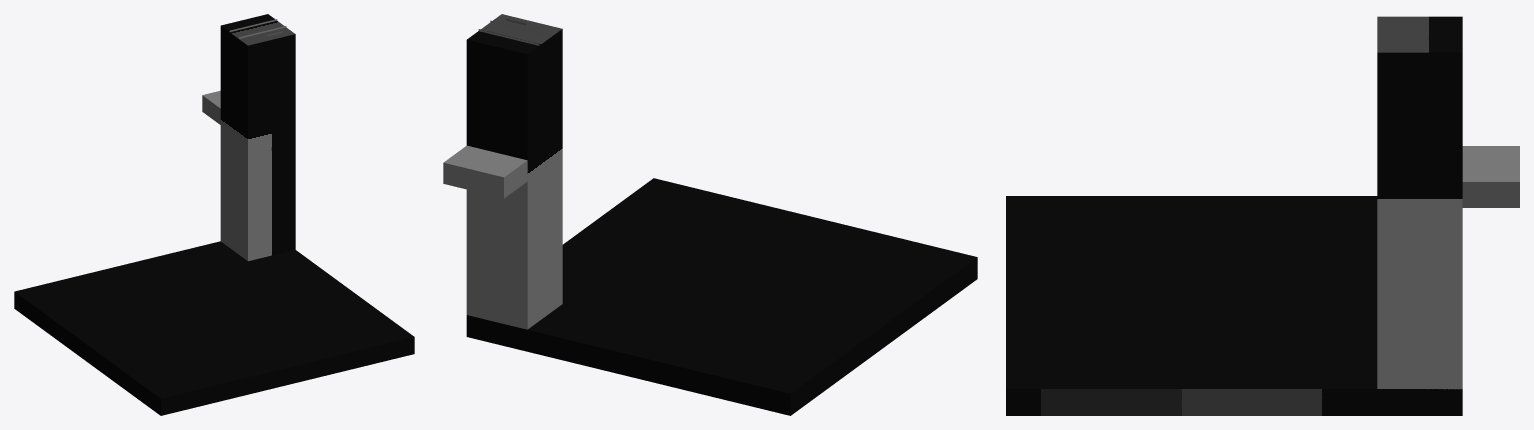
The model's file is daycare.obj.
3 renders of one model, left to right at view 1: azimuth 30°, elevation 25°; view 2: azimuth 150°, elevation 25°; view 3: azimuth 270°, elevation 25°, orthographic. The views are drawn at different scales.
Visible parts, largest first — view 1: Shape1.001; view 2: Shape1.001; view 3: Shape1.001.
Boxes of the visible parts, left/top/right/bottom form: Shape1.001: left=14, top=14, right=414, bottom=415; Shape1.001: left=443, top=14, right=977, bottom=415; Shape1.001: left=1006, top=16, right=1519, bottom=415.
Bounding box in the file's own units: 1 × 0.8838 × 1.12.
